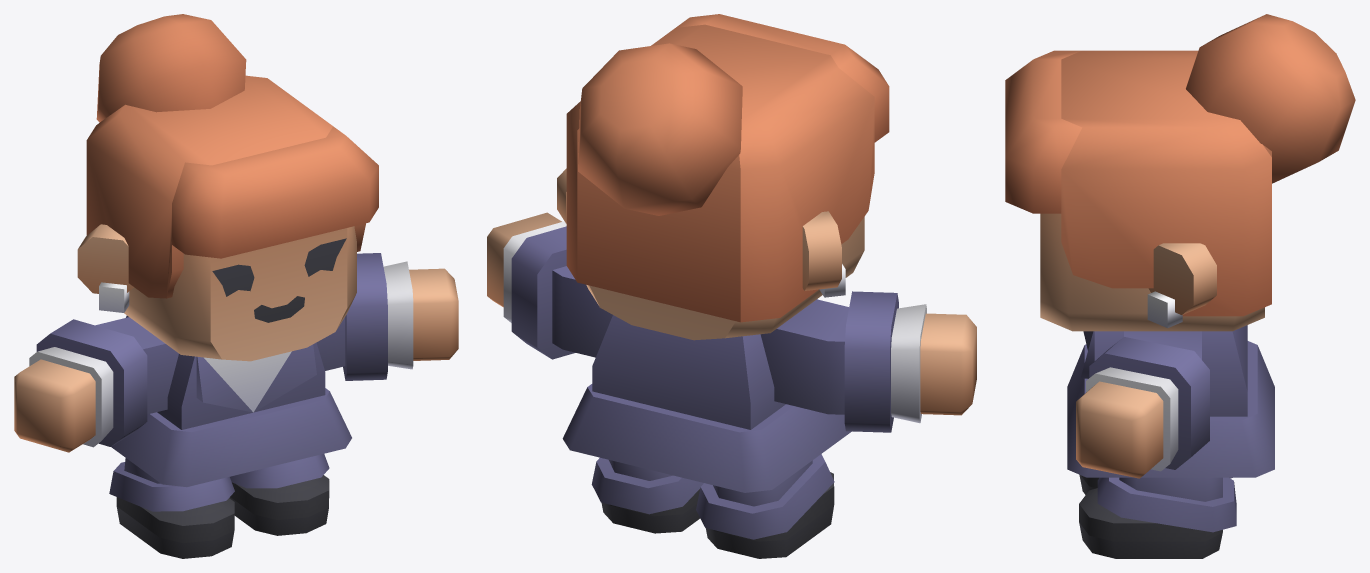
The model's file is character-female-d.obj.
The picture shows the model from 3 angles, left to right: view 1: azimuth 30°, elevation 25°; view 2: azimuth 150°, elevation 25°; view 3: azimuth 270°, elevation 25°; orthographic projection. The views are drawn at different scales.
Visible parts, largest first — view 1: head-mesh, body-mesh; view 2: head-mesh, body-mesh; view 3: head-mesh, body-mesh.
Boxes of the visible parts, box(x1,y1,x2,y2) form: head-mesh: box(77, 14, 378, 361); body-mesh: box(14, 253, 458, 558); head-mesh: box(557, 14, 889, 340); body-mesh: box(487, 212, 976, 558); head-mesh: box(1005, 14, 1355, 331); body-mesh: box(1067, 325, 1274, 558).
Bounding box in the file's own units: 0.7672 × 0.7755 × 0.4995.
Materials: 1 (1 with a texture image).
